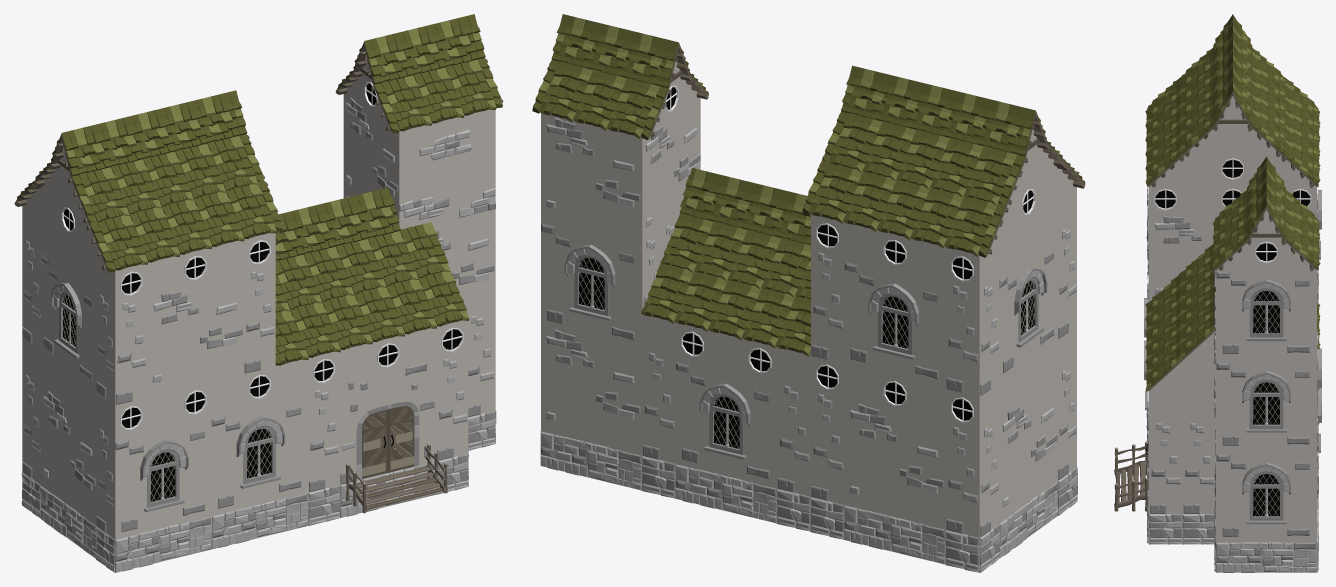
File: HOUSE_19.fbx
3 renders of one model, left to right at view 1: azimuth 30°, elevation 25°; view 2: azimuth 150°, elevation 25°; view 3: azimuth 270°, elevation 25°, orthographic. The views are drawn at different scales.
Parts seen in each view (by area): view 1: WINDOW_03_31, WINDOW_03_30, WALL_01_4, WALL_03_2, DOOR_02_4, WINDOW_03_32, WALL_01_3, WALL_01_8, WALL_01_2, WALL_06_11, WALL_06_12, WALL_06_4 (+80 smaller); view 2: WALL_01_6, WALL_01_5, WINDOW_03_33, WALL_01_7, WINDOW_03_36, WINDOW_03_34, WALL_01_3, WINDOW_03_32, WALL_01_8, FOUNDATION_03_6, FOUNDATION_03_8, FOUNDATION_03_7 (+78 smaller); view 3: WINDOW_03_37, WINDOW_03_35, WINDOW_03_29, WALL_01_9, WALL_06_6, FOUNDATION_03_5, WALL_06_16, STAIRS_01_3, FOUNDATION_02_7, ROOF_TRIAGLE_QUAD_29, ROOF_TRIANGLE_QUAD_WINDOW_24, ROOF_TRIANGLE_QUAD_WINDOW_22 (+82 smaller).
Boxes of the visible parts, x1,y1,x2,y2 form: WINDOW_03_31: (115, 415, 211, 539); WINDOW_03_30: (211, 391, 307, 515); WALL_01_4: (147, 273, 243, 396); WALL_03_2: (399, 109, 495, 229); DOOR_02_4: (340, 360, 436, 484); WINDOW_03_32: (40, 250, 96, 390); WALL_01_3: (41, 384, 96, 524); WALL_01_8: (343, 93, 399, 225); WALL_01_2: (432, 209, 495, 315); WALL_06_11: (243, 265, 275, 373); WALL_06_12: (115, 296, 147, 404); WALL_06_4: (307, 384, 339, 492); WALL_01_6: (541, 325, 642, 455); WALL_01_5: (844, 399, 945, 529); WINDOW_03_33: (844, 257, 945, 387); WALL_01_7: (541, 113, 643, 243); WINDOW_03_36: (541, 219, 642, 348); WINDOW_03_34: (676, 357, 776, 487); WALL_01_3: (999, 375, 1057, 522); WINDOW_03_32: (999, 233, 1057, 381); WALL_01_8: (642, 97, 700, 242); FOUNDATION_03_6: (540, 430, 642, 490); FOUNDATION_03_8: (844, 505, 945, 564); FOUNDATION_03_7: (675, 463, 776, 523); WINDOW_03_37: (1216, 267, 1316, 358); WINDOW_03_35: (1216, 359, 1316, 450); WINDOW_03_29: (1216, 450, 1316, 541); WALL_01_9: (1148, 214, 1218, 301); WALL_06_6: (1148, 422, 1182, 513); FOUNDATION_03_5: (1216, 542, 1316, 572); WALL_06_16: (1182, 422, 1215, 513); STAIRS_01_3: (1114, 441, 1148, 511); FOUNDATION_02_7: (1148, 513, 1182, 544); ROOF_TRIAGLE_QUAD_29: (1182, 184, 1215, 214); ROOF_TRIANGLE_QUAD_WINDOW_24: (1249, 237, 1283, 267); ROOF_TRIANGLE_QUAD_WINDOW_22: (1216, 153, 1249, 183).
Bounding box in the file's own units: 1363 × 1214 × 618.
